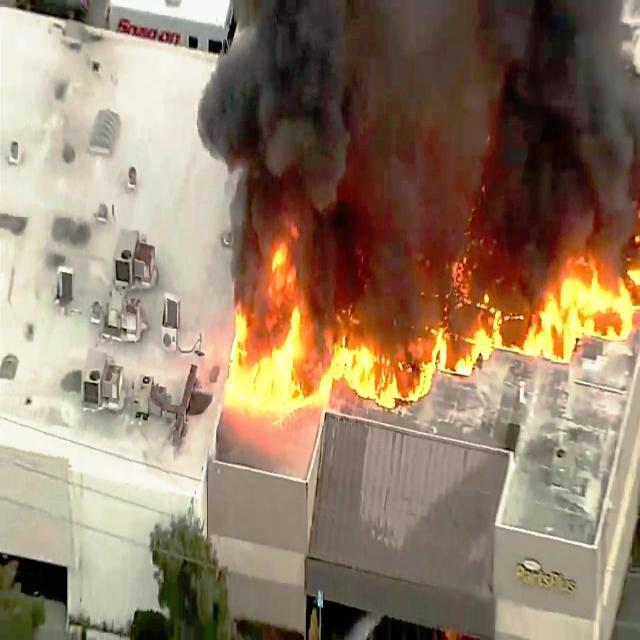Fire: (223, 212, 640, 416)
Smoke: (198, 2, 640, 216)
